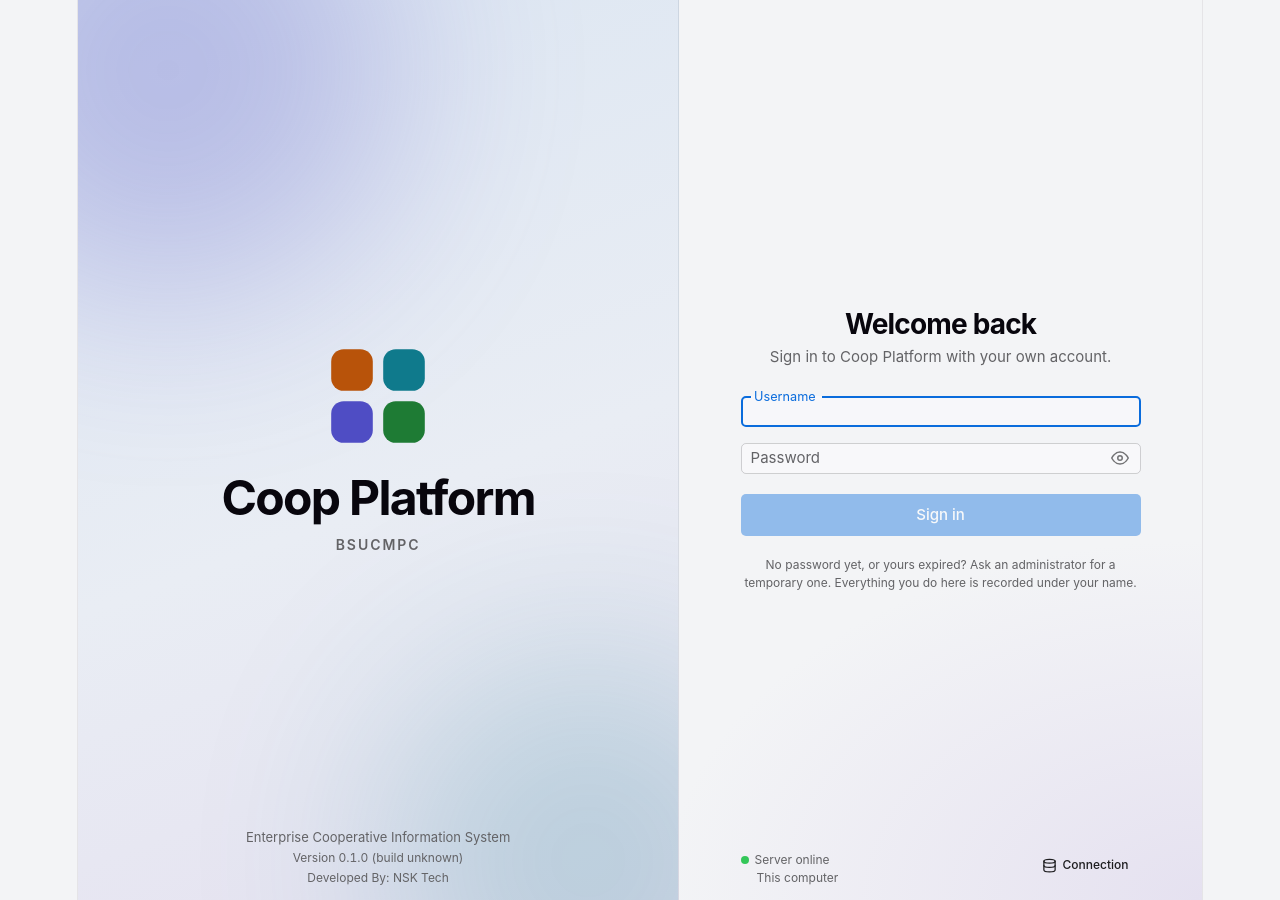
Scenario: sign-in screen › shows a refusal, clears the password and stays on the screen
The image size is (1280, 900).
In the field labelled "Username": [941, 411] box [741,396,1141,427], type "nathan"
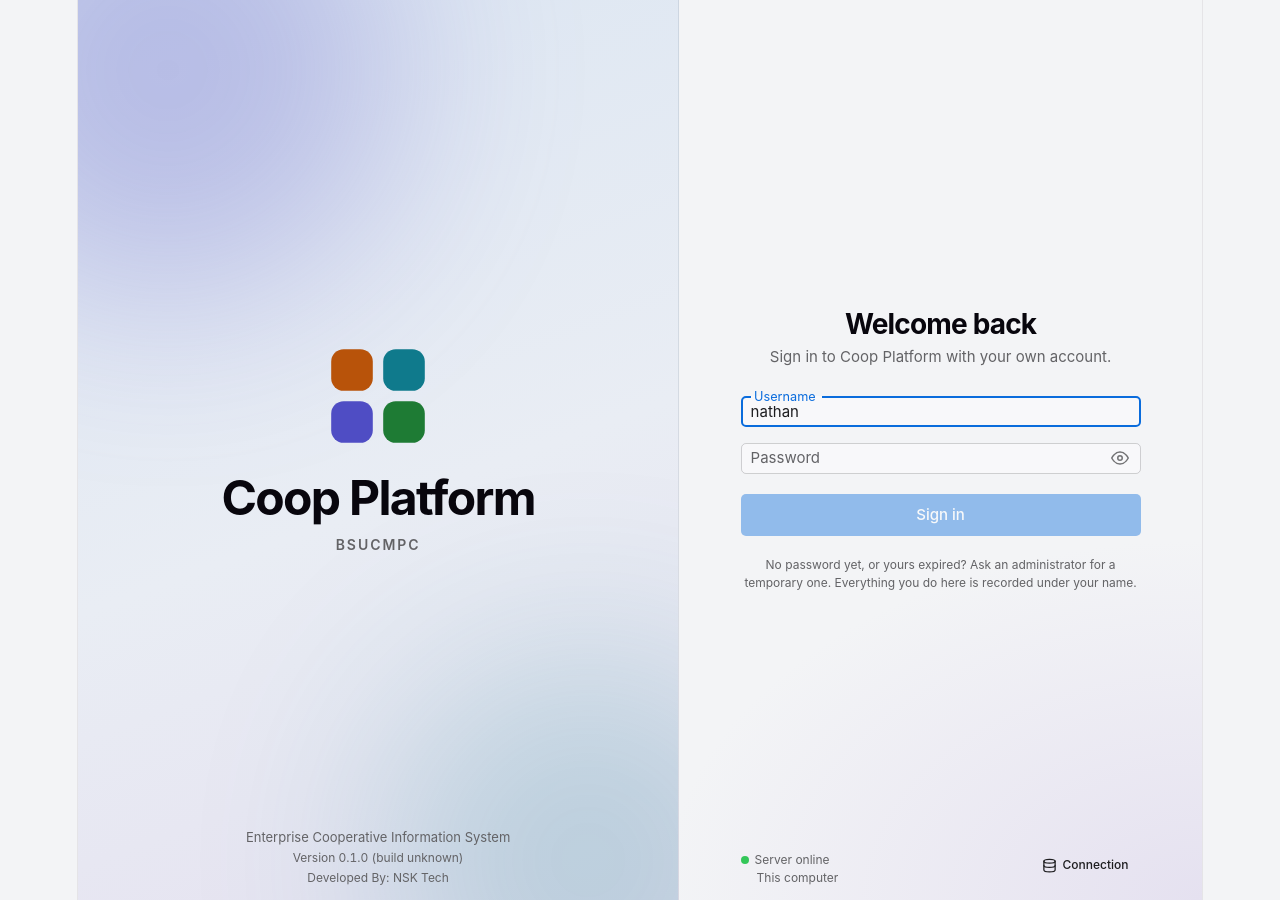
In the password field labelled "Password": [919, 458] box [741,443,1098,474], type "nope"
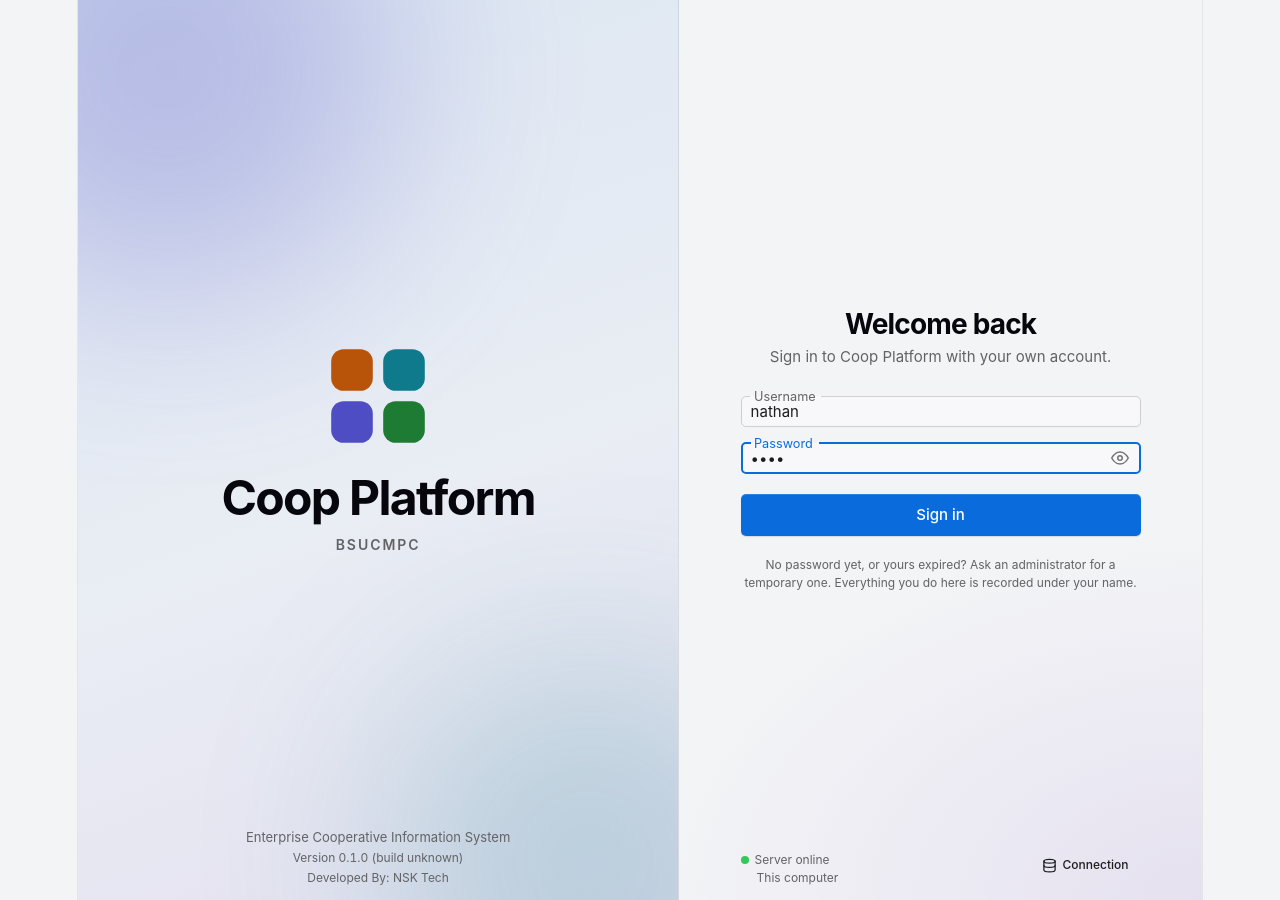
Click the button "Sign in": [941, 515] box [741,494,1141,536]
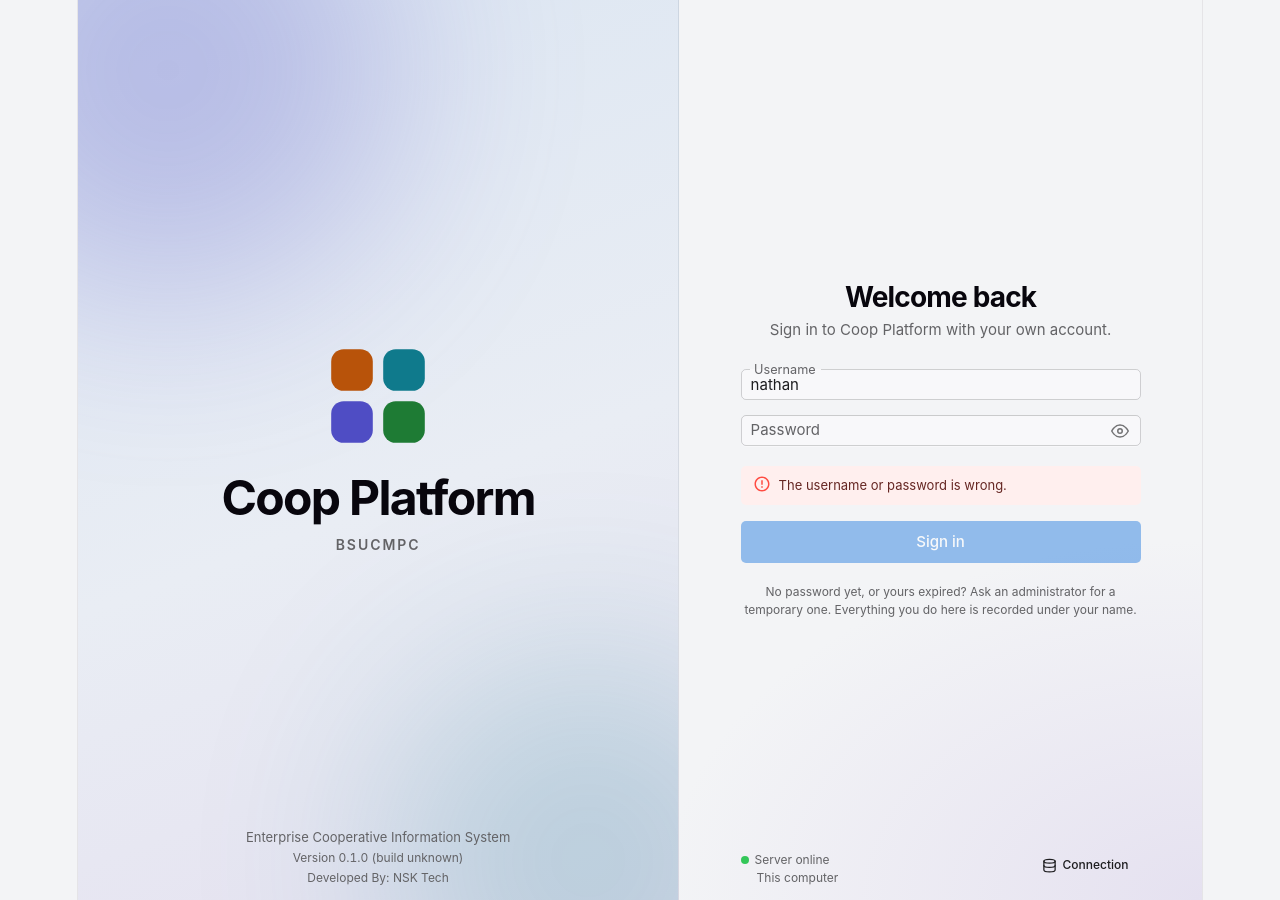
Expected: the message "The username or password is wrong." is shown, [741,466,1141,505]
Expected: the password field labelled "Password" is empty, [741,415,1098,446]
